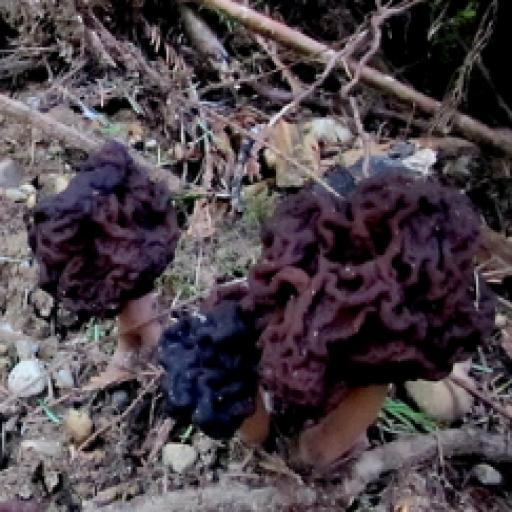mushroom: (225, 153, 510, 422), (0, 126, 237, 396)
